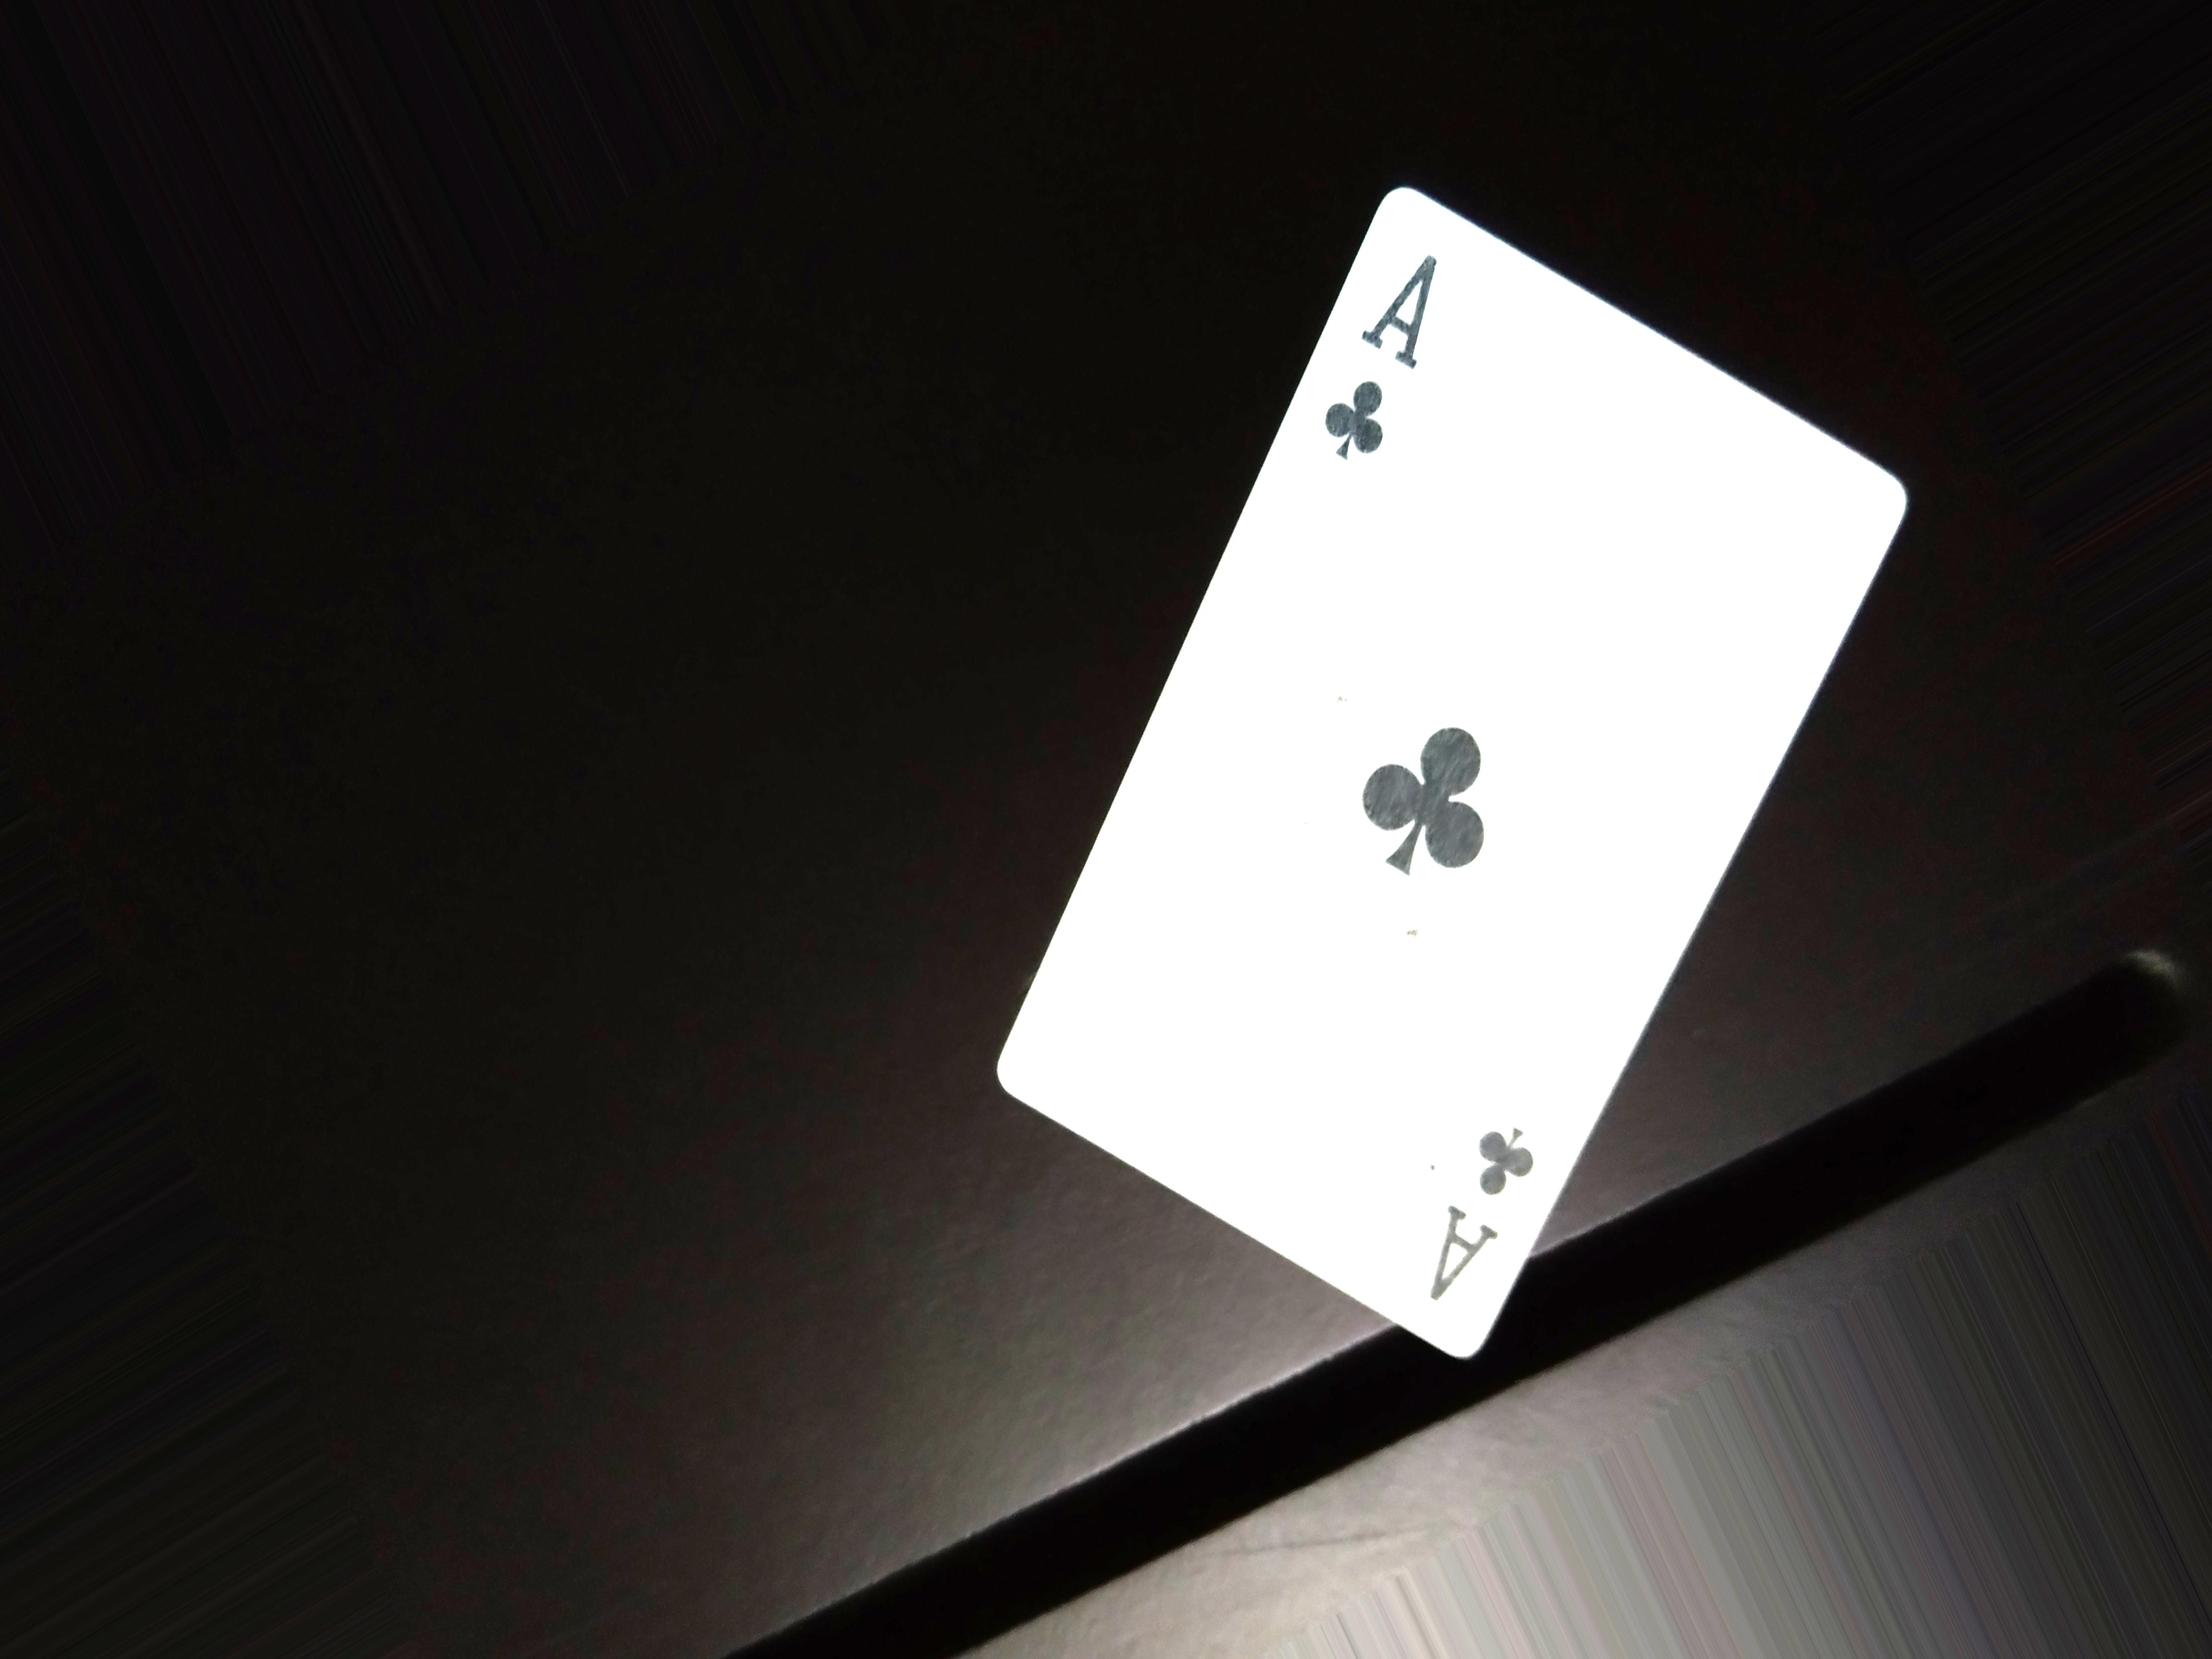AC: (1421, 1087, 1580, 1302)
